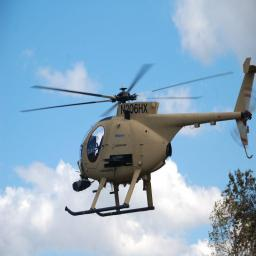helicopter: (23, 65, 256, 217)
